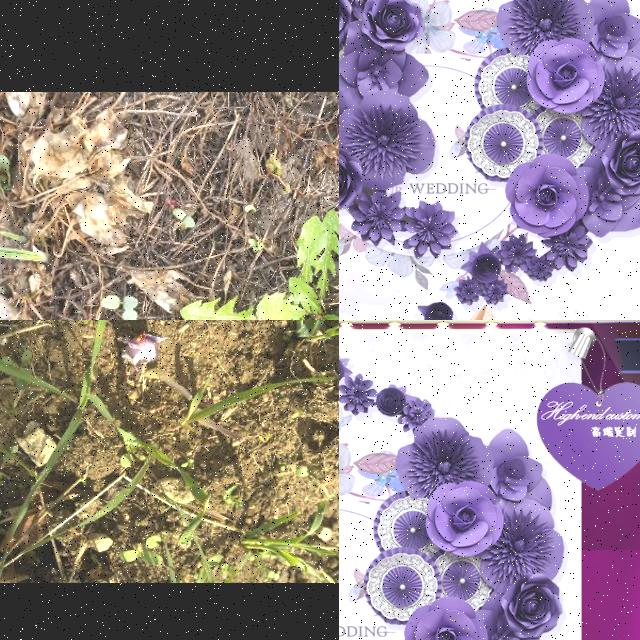flower: (116, 336, 168, 372)
